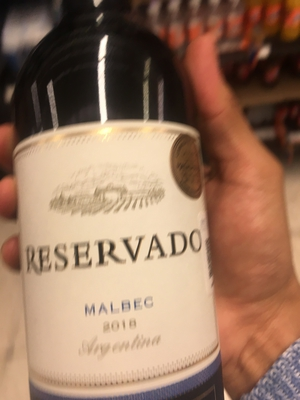reservado malbec: (17, 12, 221, 400)
